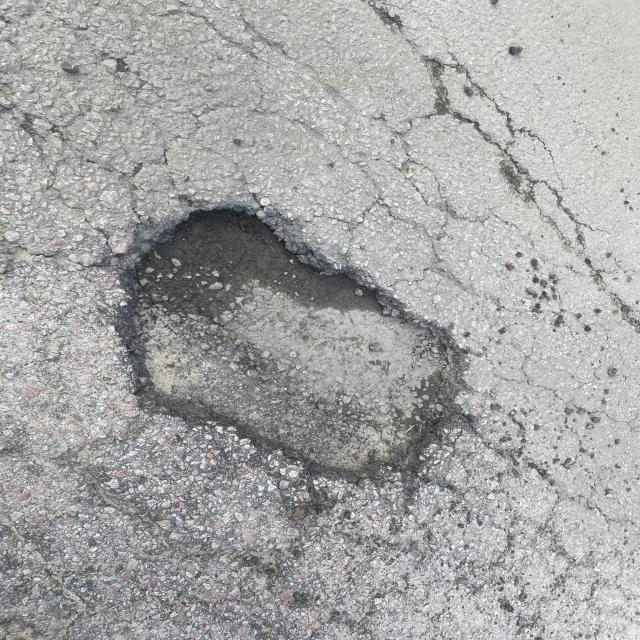Pothole: (138, 189, 540, 527)
